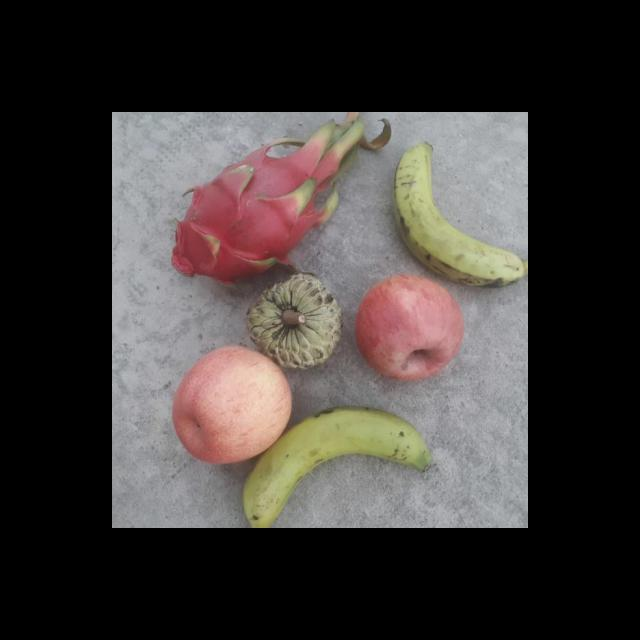Sakya fruit: (245, 273, 341, 369)
apple: (169, 341, 291, 465), (357, 272, 466, 382)
banana: (237, 406, 465, 528), (390, 138, 528, 288)
pitaya: (171, 144, 297, 288)
